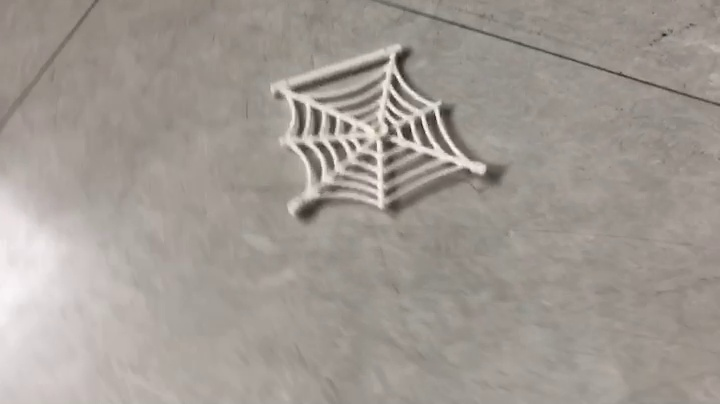web: (269, 41, 504, 221)
